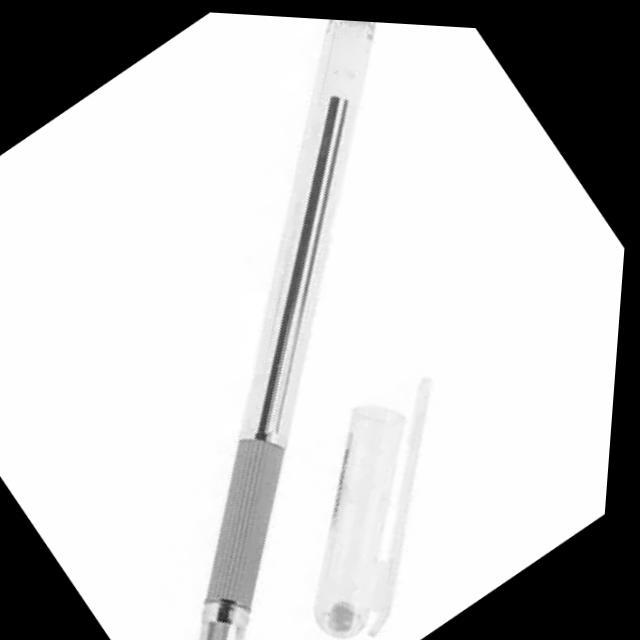pencil: (185, 15, 433, 640)
